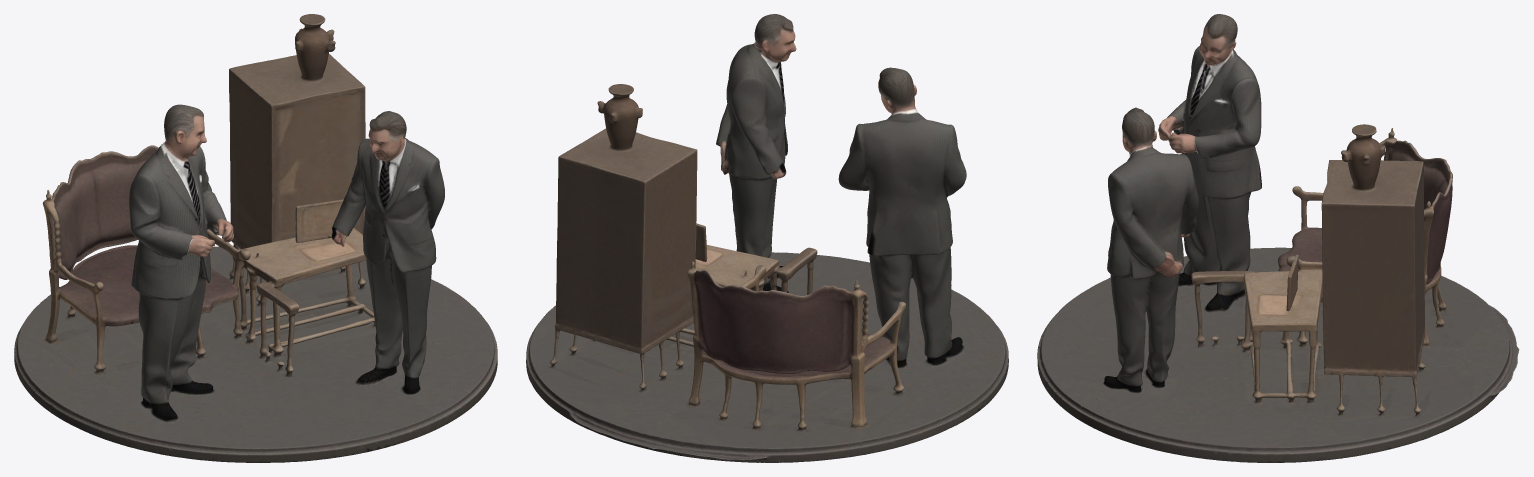
File: hai_co_van_my.glb
3 renders of one model, left to right at view 1: azimuth 30°, elevation 25°; view 2: azimuth 150°, elevation 25°; view 3: azimuth 270°, elevation 25°, orthographic.
Bounding box in the file's own units: 1.72 × 1.19 × 1.74.
Materials: 1 (1 with a texture image).
